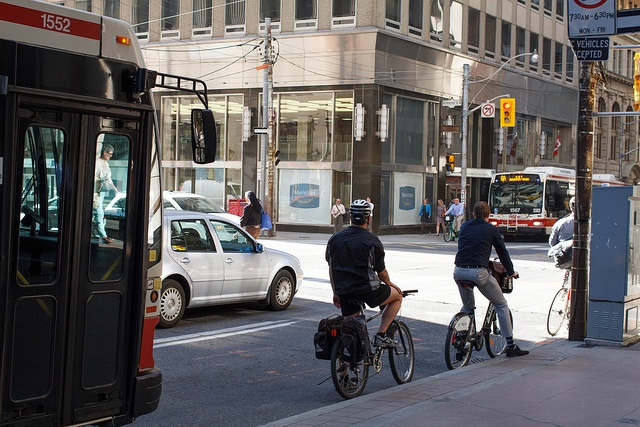non-vehicle: (444, 272, 520, 370), (329, 324, 416, 395), (547, 266, 570, 339), (443, 215, 458, 242)
